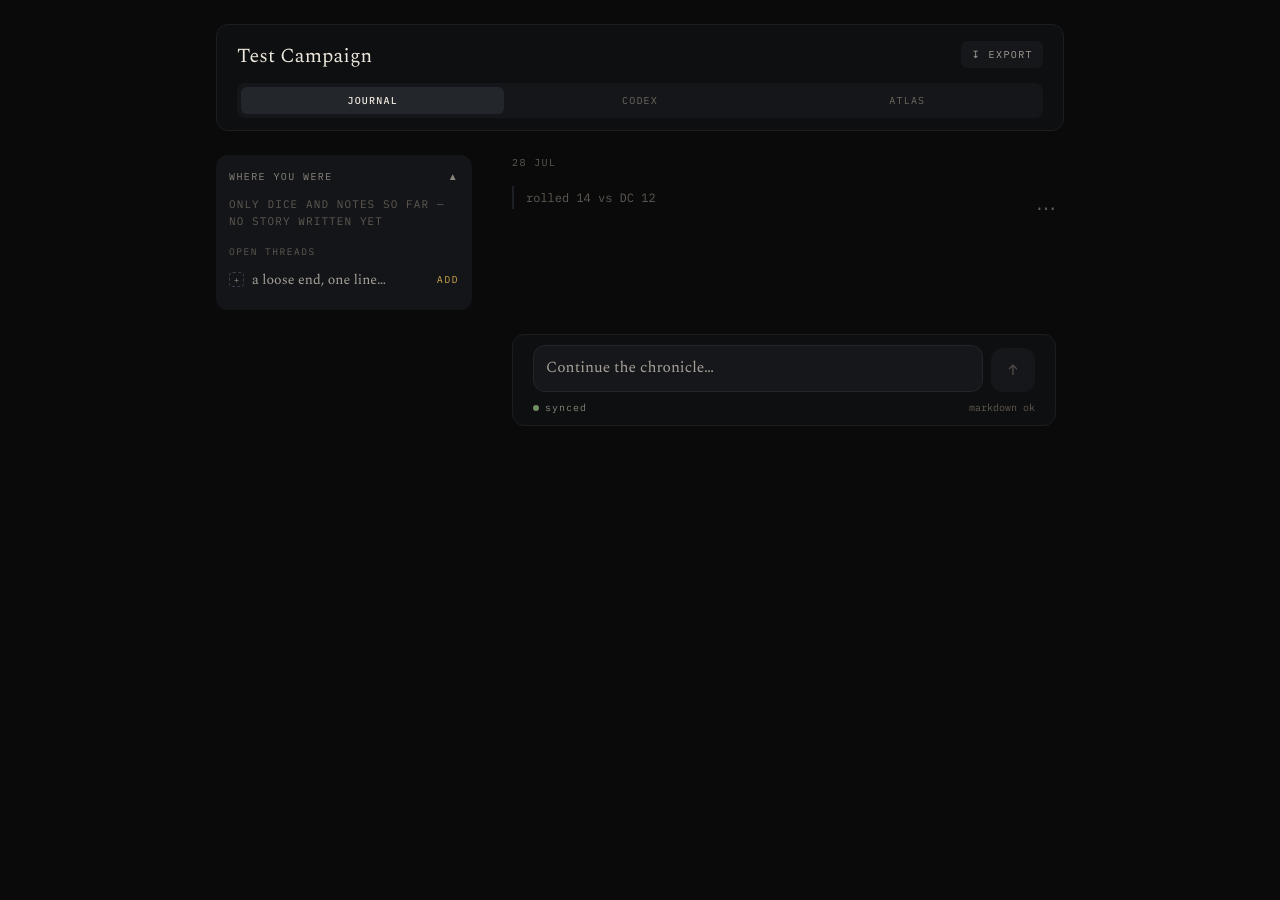
Test: Entry edit — the collision law (Lap 6) › cancel restores an emptied edit — pencil-only content stays legal (not treated as delete)
The image size is (1280, 900).
Expected: the text "rolled 14 vs DC 12" is shown, [526,190,656,205]
Click the button named "Entry actions". click: point(1046, 208)
box: [1024,186,1068,230]
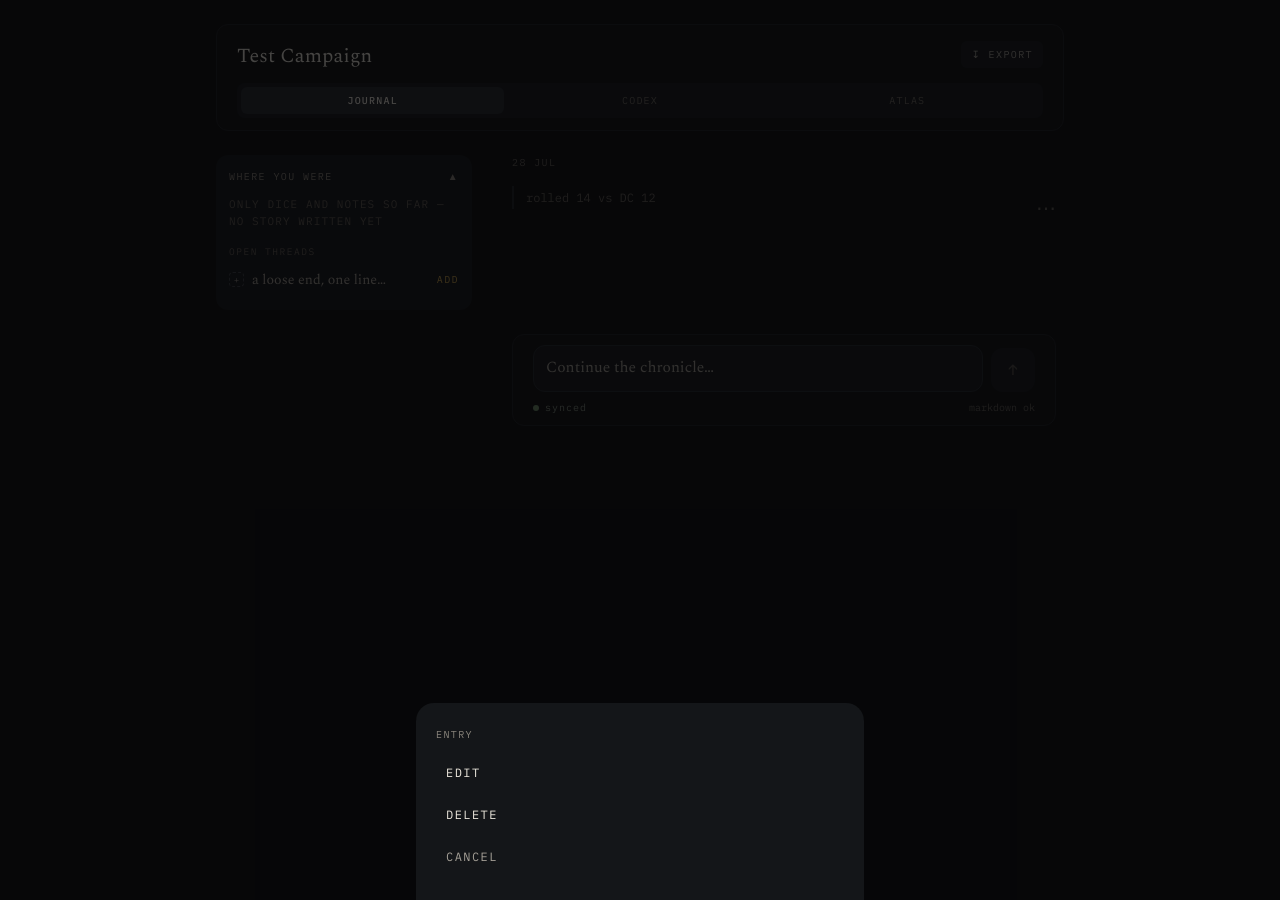
Click the button "Edit". click: point(463, 772)
box: [436,754,844,792]
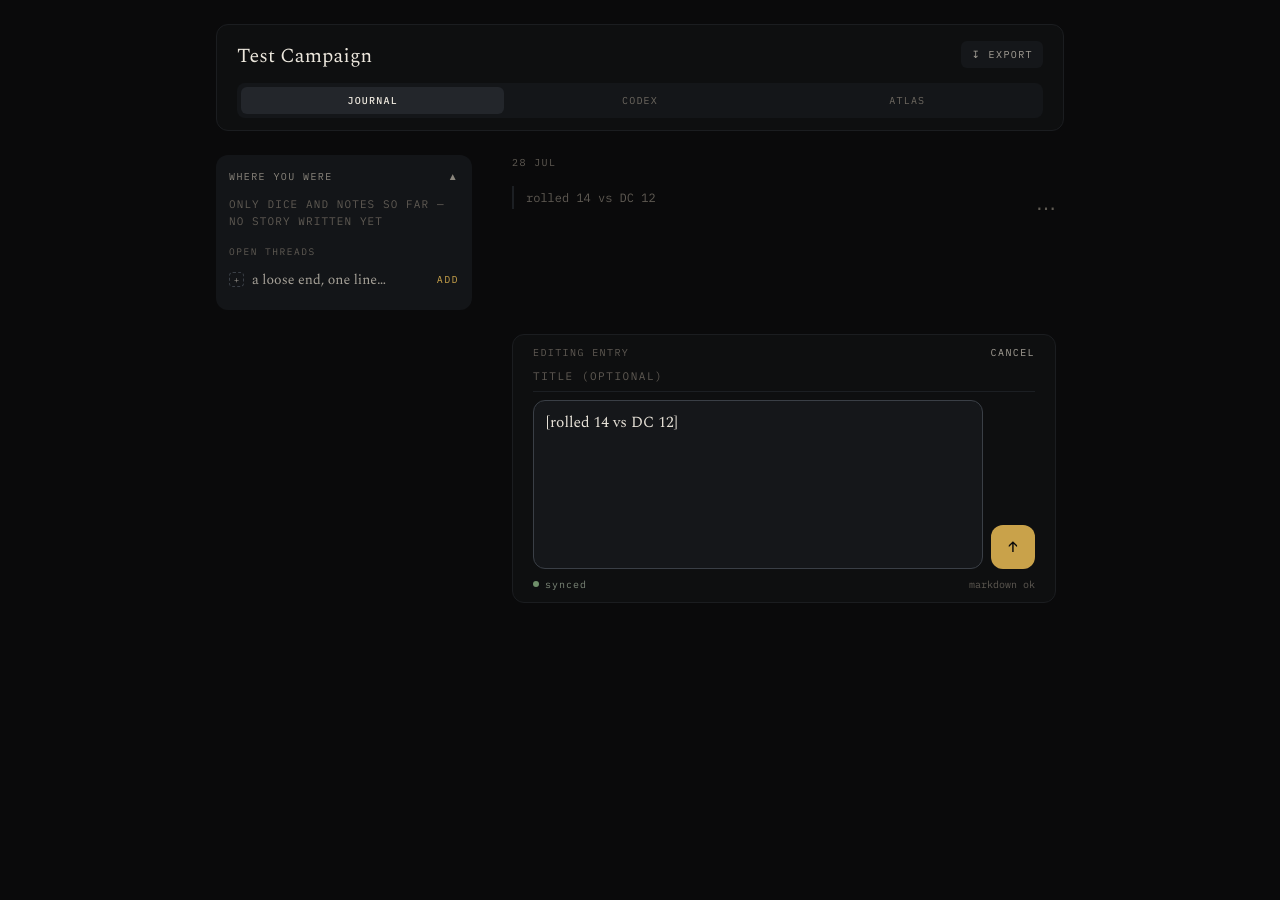
Result: the text box with placeholder "Continue the chronicle…" holds "[rolled 14 vs DC 12]" at [533,400,983,569]
Result: the button named "Save edit" is enabled at [991,525,1035,569]
